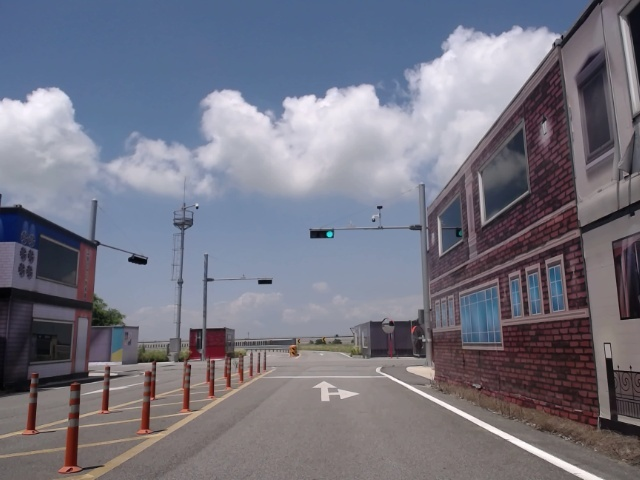green_3: (312, 230, 334, 237)
